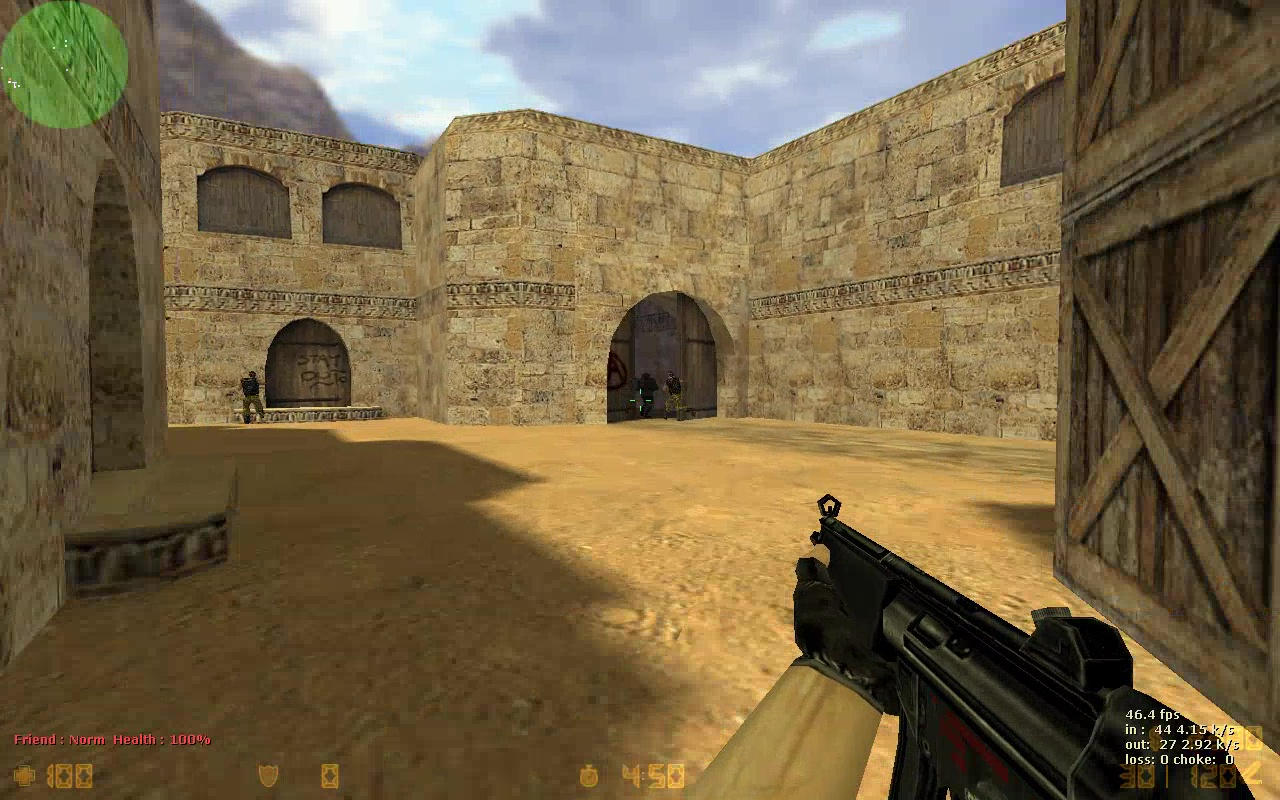terr1: (240, 372, 263, 419), (663, 375, 687, 418)
